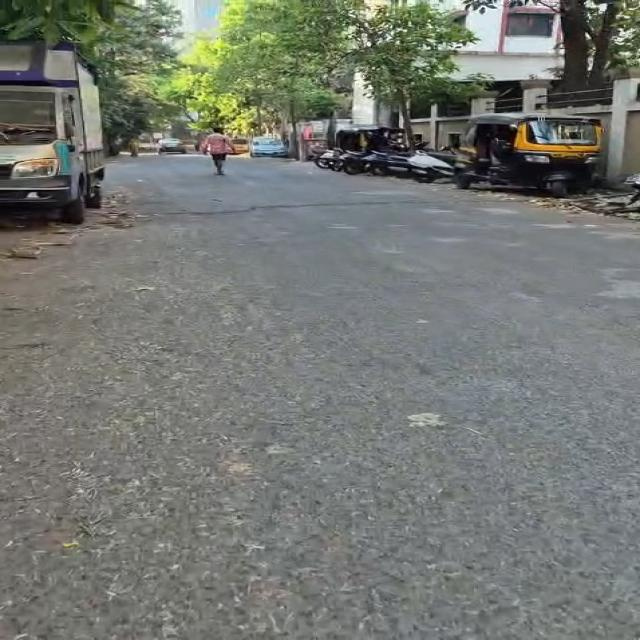obstacle: (188, 0, 477, 155), (0, 0, 180, 152), (217, 0, 357, 155), (349, 3, 482, 143), (81, 0, 180, 151), (519, 0, 639, 91), (0, 0, 131, 42), (560, 0, 589, 92), (588, 2, 619, 88), (397, 91, 415, 149), (288, 101, 299, 159), (326, 109, 336, 148)
person: (203, 128, 234, 175)
vehical: (409, 150, 455, 182), (369, 151, 411, 176), (341, 152, 369, 175), (314, 149, 344, 170)
